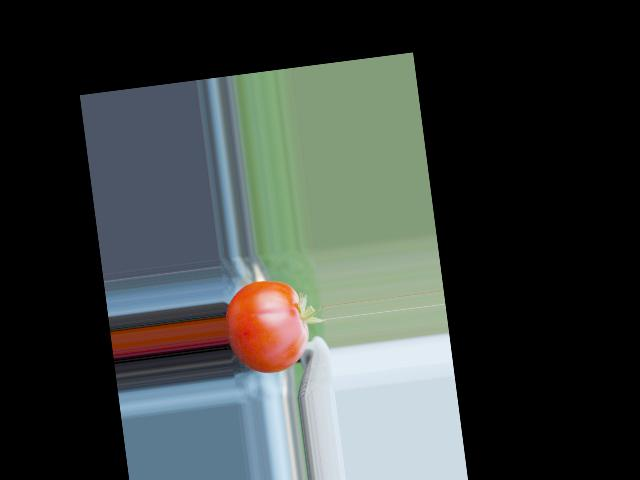tomato: (221, 275, 313, 377)
